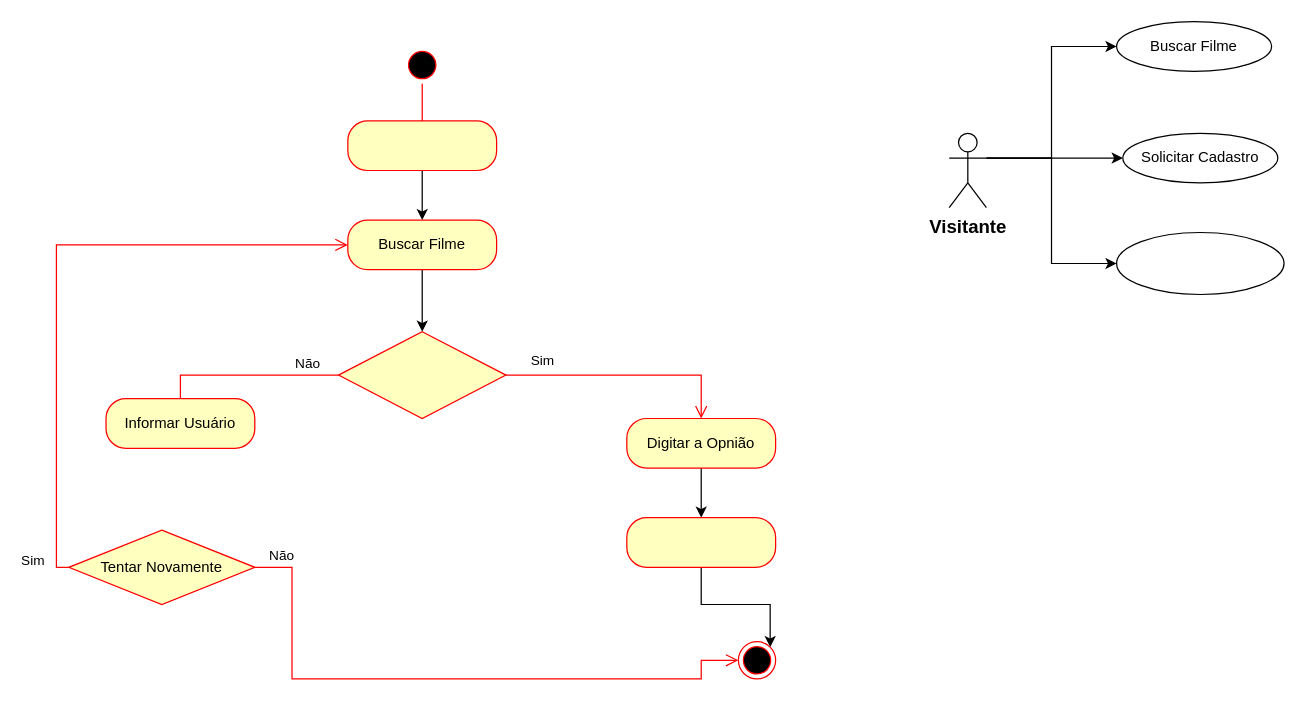
The diagram is 1306 pixels wide and 713 high, and some of its shapes have lost their labels. The centre of each missing label's shape, as x and y in pixels:
"Efetuar Login" goes at [422,145].
"Filme Encontrado?" goes at [421,374].
"Mostrar as Opniões Sobre o Filme" goes at [1199,262].
"Registrar Opnião" goes at [701,541].
